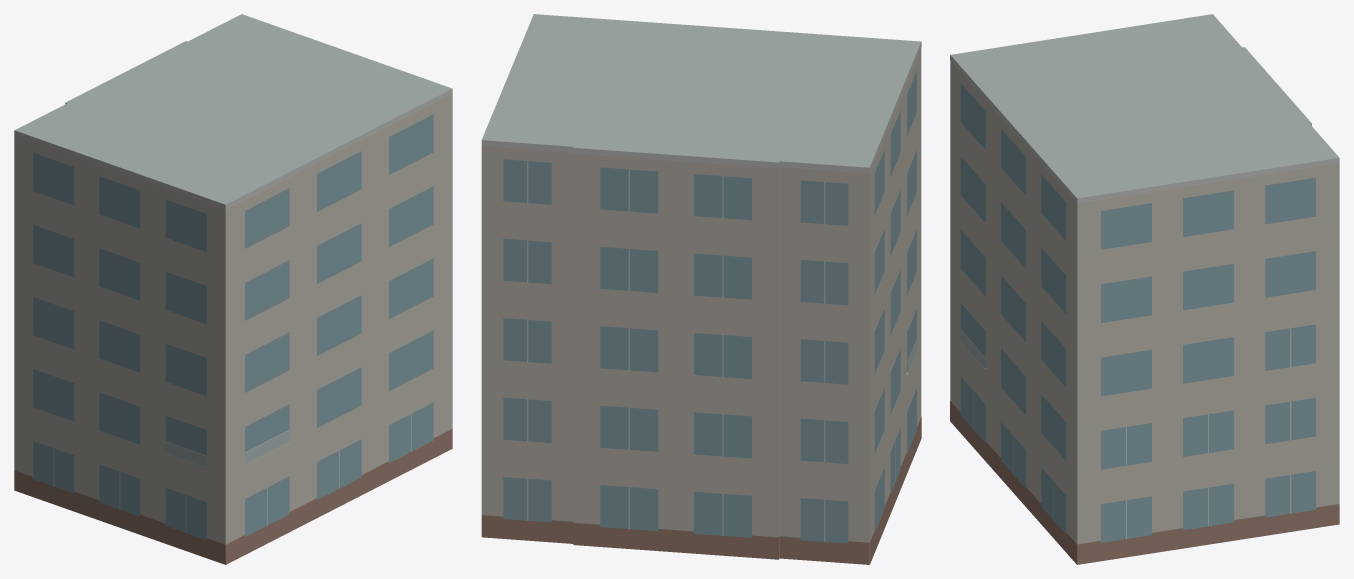
File: survey-upis-32936250.glb
3 views of the same model, side by side, from view 1: azimuth 30°, elevation 25°; view 2: azimuth 150°, elevation 25°; view 3: azimuth 270°, elevation 25° (orthographic). The views are drawn at different scales.
Visible parts, largest first — view 1: survey-upis-32936250.tmp; view 2: survey-upis-32936250.tmp; view 3: survey-upis-32936250.tmp.
Part boxes in pixels (x1,y1,x2,y2): survey-upis-32936250.tmp: [14, 14, 452, 564]; survey-upis-32936250.tmp: [481, 14, 921, 564]; survey-upis-32936250.tmp: [950, 14, 1339, 564].
Bounding box in the file's own units: 17.71 × 16.4 × 15.8.
